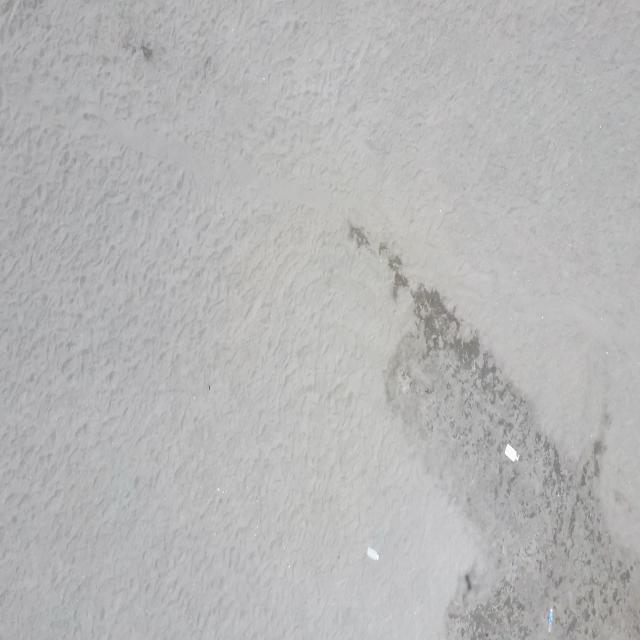Garbage: (504, 444, 517, 460), (547, 607, 553, 632), (367, 547, 377, 560)
